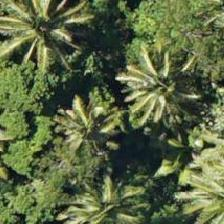coconut_tree: (39, 76, 129, 166), (111, 40, 201, 130), (70, 164, 160, 223), (0, 0, 82, 60), (171, 140, 223, 223)
